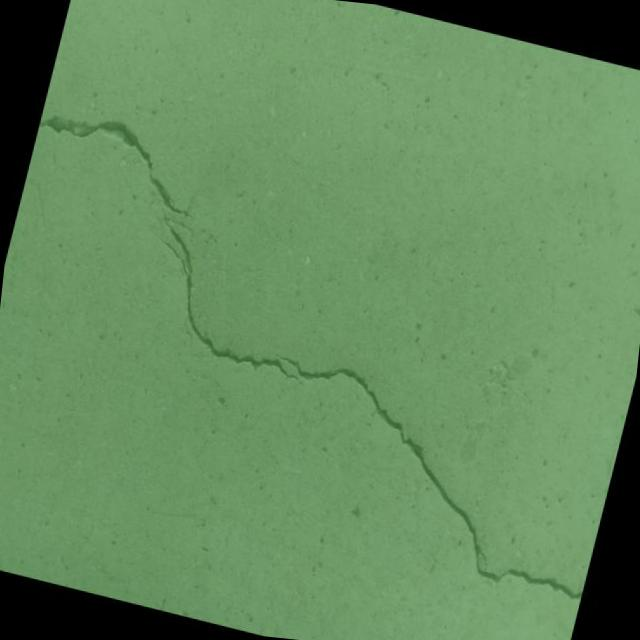crack: (79, 204, 640, 607), (23, 102, 214, 221)
